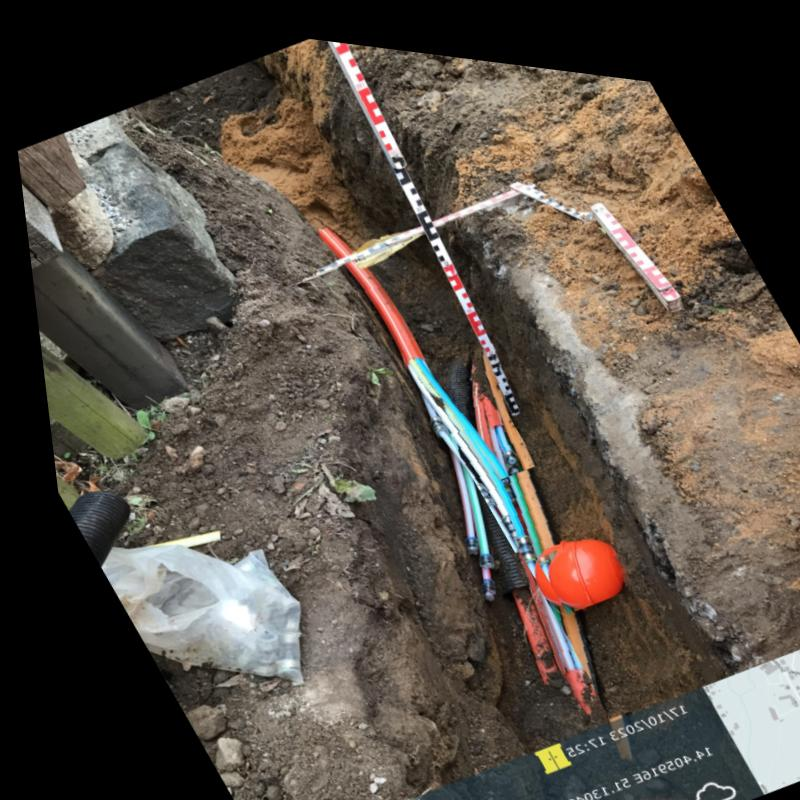Kugelmarker: (536, 526, 609, 592)
Orang-Speednetrohrchen: (473, 335, 592, 703), (312, 219, 458, 426), (488, 539, 572, 672), (460, 361, 513, 460)
